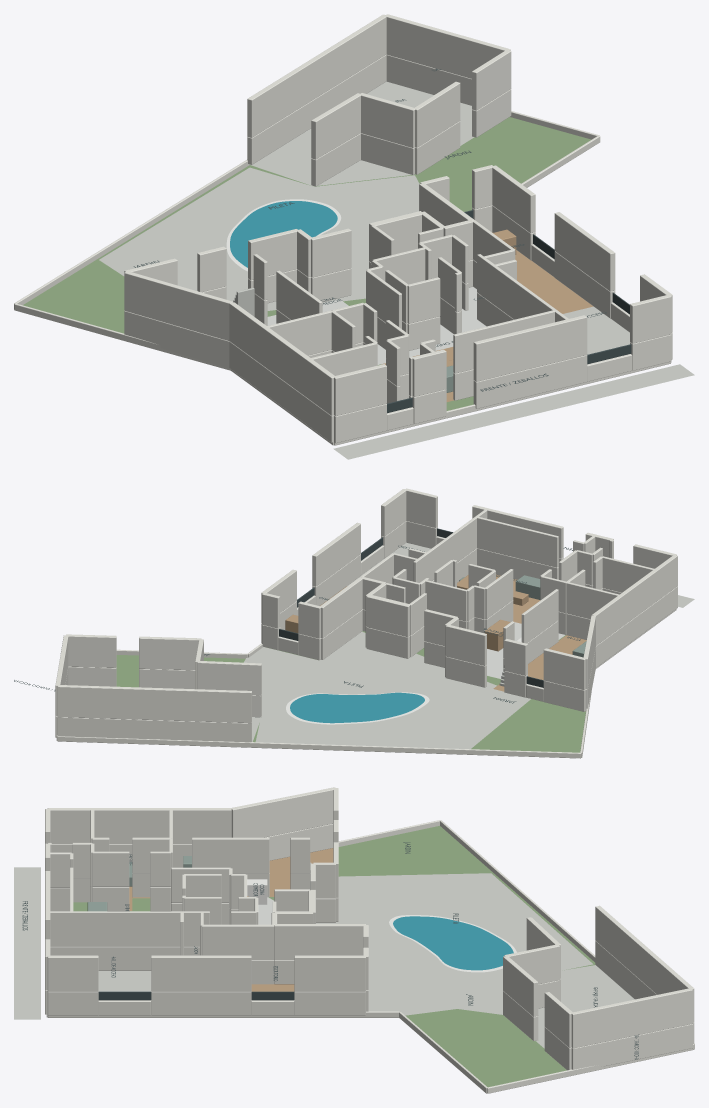
The model's file is casa-2071.glb.
3 renders of one model, top to bottom at view 1: azimuth 30°, elevation 25°; view 2: azimuth 150°, elevation 25°; view 3: azimuth 270°, elevation 25°, orthographic. The views are drawn at different scales.
Visible parts, largest first — view 1: Solado alrededor de pileta, Contorno trazado de la planta - no mensura, Exterior 10 alto 0, Acceso Zeballos, Exterior 7 alto 0, Exterior 0 alto 0, Exterior 0 alto 1, GARAJE / SALIDA, Exterior 10 alto 1, Exterior 10 0, Pileta - espejo de agua, Exterior 7 0 (+49 smaller); view 2: Solado alrededor de pileta, Exterior 10 alto 0, Contorno trazado de la planta - no mensura, Exterior 10 0, Limite de plano 4, Pileta - espejo de agua, Exterior 0 alto 0, Tabique 6 alto 0, Tabique 13 alto 0, Exterior 11 alto 0, Exterior 11 alto 2, Exterior 0 0 (+47 smaller); view 3: Solado alrededor de pileta, Contorno trazado de la planta - no mensura, Exterior 0 alto 0, Tabique 13 alto 0, Exterior 10 alto 1, Acceso Zeballos, Pileta - espejo de agua, Exterior 5 alto 0, Exterior 0 alto 1, Exterior 10 alto 0, Exterior 3 alto 3, Exterior 10 1 (+47 smaller).
Part boxes in pixels (box(x1,y1,x2,y2)): Solado alrededor de pileta: box(99, 167, 419, 310); Contorno trazado de la planta - no mensura: box(23, 117, 590, 410); Exterior 10 alto 0: box(247, 14, 386, 137); Acceso Zeballos: box(333, 364, 694, 459); Exterior 7 alto 0: box(473, 315, 587, 381); Exterior 0 alto 0: box(229, 302, 335, 415); Exterior 0 alto 1: box(124, 271, 232, 341); GARAJE / SALIDA: box(250, 81, 474, 186); Exterior 10 alto 1: box(385, 14, 510, 78); Exterior 10 0: box(247, 55, 386, 164); Pileta - espejo de agua: box(230, 201, 337, 267); Exterior 7 0: box(473, 355, 587, 408); Solado alrededor de pileta: box(244, 631, 530, 749); Exterior 10 alto 0: box(57, 685, 251, 723); Contorno trazado de la planta - no mensura: box(116, 631, 585, 752); Exterior 10 0: box(57, 717, 251, 742); Limite de plano 4: box(57, 736, 581, 758); Pileta - espejo de agua: box(290, 692, 424, 723); Exterior 0 alto 0: box(592, 555, 677, 645); Tabique 6 alto 0: box(477, 516, 558, 567); Tabique 13 alto 0: box(413, 509, 487, 582); Exterior 11 alto 0: box(139, 636, 201, 670); Exterior 11 alto 2: box(197, 661, 261, 695); Exterior 0 0: box(596, 586, 677, 667); Solado alrededor de pileta: box(316, 873, 593, 1015); Contorno trazado de la planta - no mensura: box(73, 826, 595, 1087); Exterior 0 alto 0: box(47, 808, 231, 843); Tabique 13 alto 0: box(48, 911, 209, 946); Exterior 10 alto 1: box(571, 988, 692, 1048); Acceso Zeballos: box(14, 867, 40, 1019); Pileta - espejo de agua: box(393, 916, 513, 970); Exterior 5 alto 0: box(151, 955, 251, 991); Exterior 0 alto 1: box(231, 787, 335, 837); Exterior 10 alto 0: box(595, 905, 694, 1022); Exterior 3 alto 3: box(274, 924, 365, 959); Exterior 10 1: box(571, 1024, 692, 1069).
Size of the model in its own units: 26.1 by 2.77 by 27.99.
